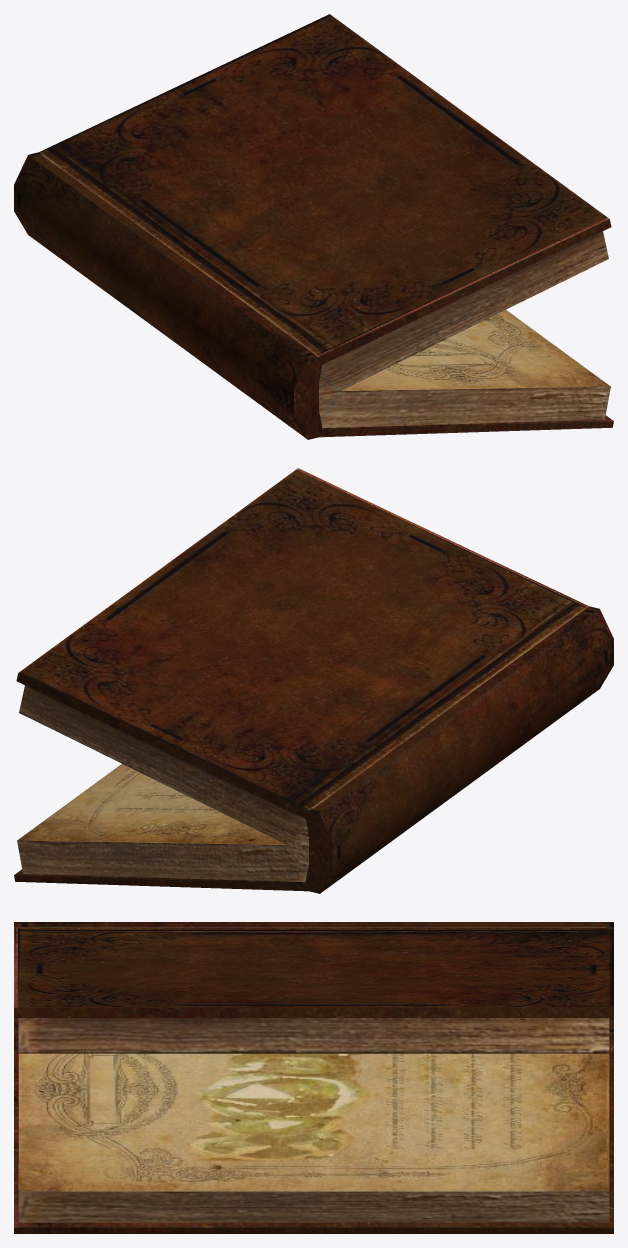
Rendered from Book_C.glb.
3 views of the same model, one above another, from view 1: azimuth 30°, elevation 25°; view 2: azimuth 150°, elevation 25°; view 3: azimuth 270°, elevation 25° (orthographic). The views are drawn at different scales.
Visible parts, largest first — view 1: Book_C; view 2: Book_C; view 3: Book_C.
Boxes of the visible parts, left/top/right/bottom form: Book_C: left=14, top=14, right=613, bottom=439; Book_C: left=14, top=468, right=613, bottom=893; Book_C: left=14, top=922, right=613, bottom=1233.
Bounding box in the file's own units: 0.2243 × 0.1404 × 0.34.
1 material, 1 textured.
